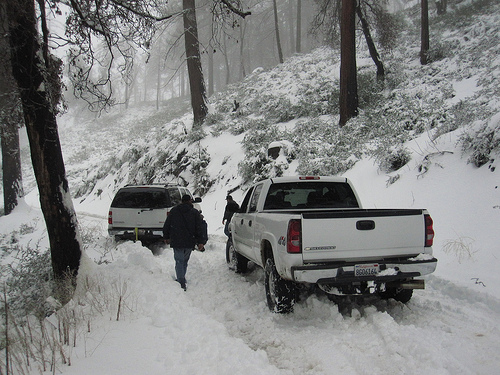car: (109, 182, 206, 253)
person: (167, 194, 208, 287), (221, 195, 239, 238)
truck: (226, 181, 436, 315)
